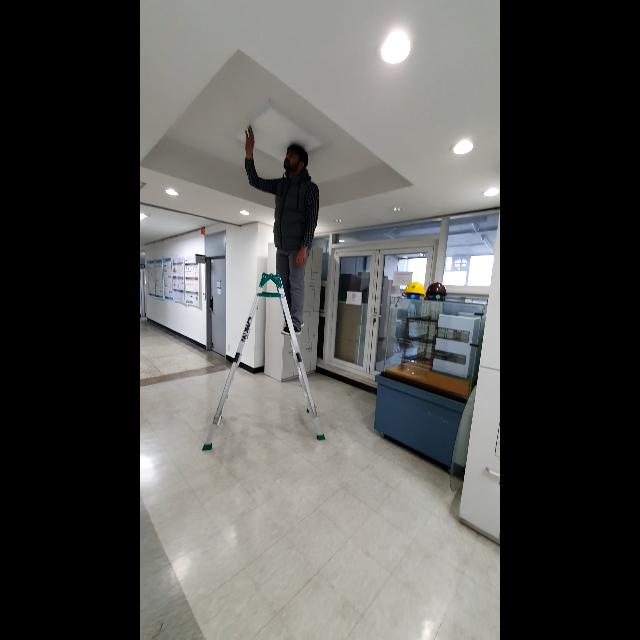hard hat: (200, 269, 332, 455)
vest: (240, 122, 324, 336)
